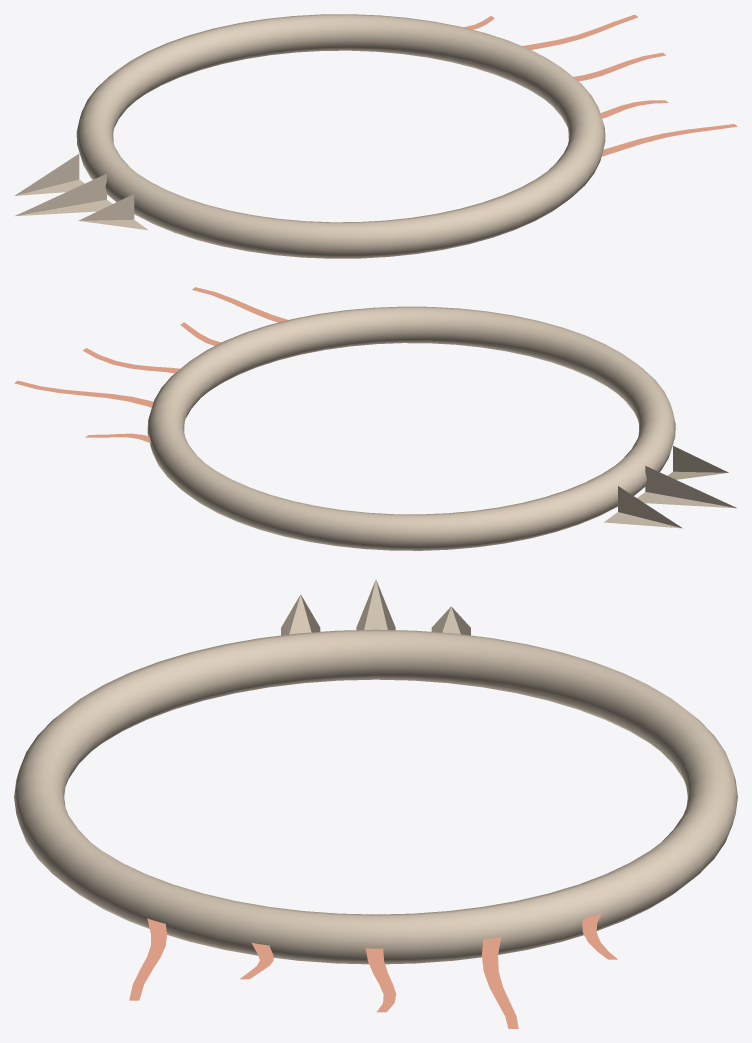
File: gate.glb
3 views of the same model, one above another, from view 1: azimuth 30°, elevation 25°; view 2: azimuth 150°, elevation 25°; view 3: azimuth 270°, elevation 25° (orthographic). The views are drawn at different scales.
Parts seen in each view (by area): view 1: Gate; view 2: Gate; view 3: Gate.
Part boxes in pixels (bbox=[...]): Gate: bbox=[14, 14, 737, 258]; Gate: bbox=[14, 287, 737, 550]; Gate: bbox=[14, 579, 737, 1028].
Size of the model in its own units: 29.65 by 1.4 by 20.2.
